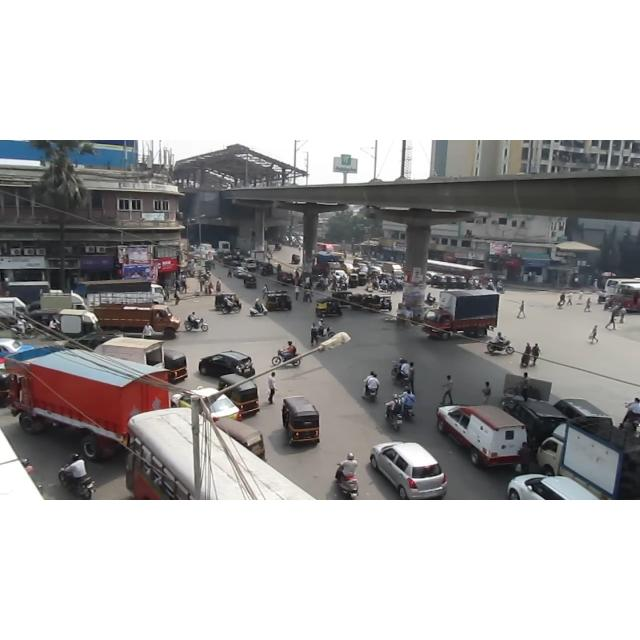auto: (279, 394, 324, 454), (218, 374, 264, 420), (162, 346, 190, 384), (315, 292, 345, 320), (263, 288, 293, 312), (369, 293, 395, 315), (241, 271, 259, 293)
car: (430, 396, 530, 472), (364, 442, 451, 500), (508, 474, 598, 501), (200, 348, 264, 384), (241, 257, 259, 273), (233, 267, 251, 280)
truck: (6, 347, 170, 461), (543, 416, 640, 499), (92, 294, 180, 338), (423, 289, 500, 339), (75, 279, 165, 307), (95, 335, 166, 369), (58, 309, 100, 339), (30, 290, 88, 310), (0, 296, 28, 324), (216, 240, 232, 256)
